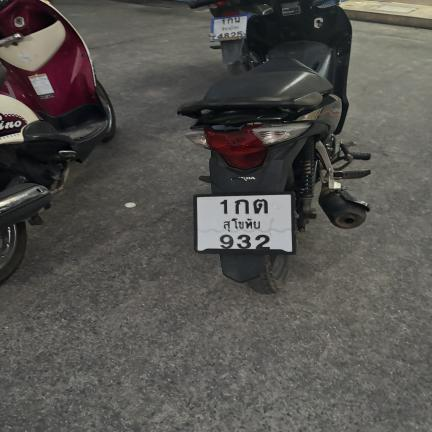1: (217, 198, 229, 214)
2: (254, 233, 272, 249)
3: (236, 233, 252, 250)
9: (218, 233, 235, 249)
A01: (232, 198, 250, 214)
A21: (252, 199, 270, 214)
STI: (221, 217, 262, 232)
